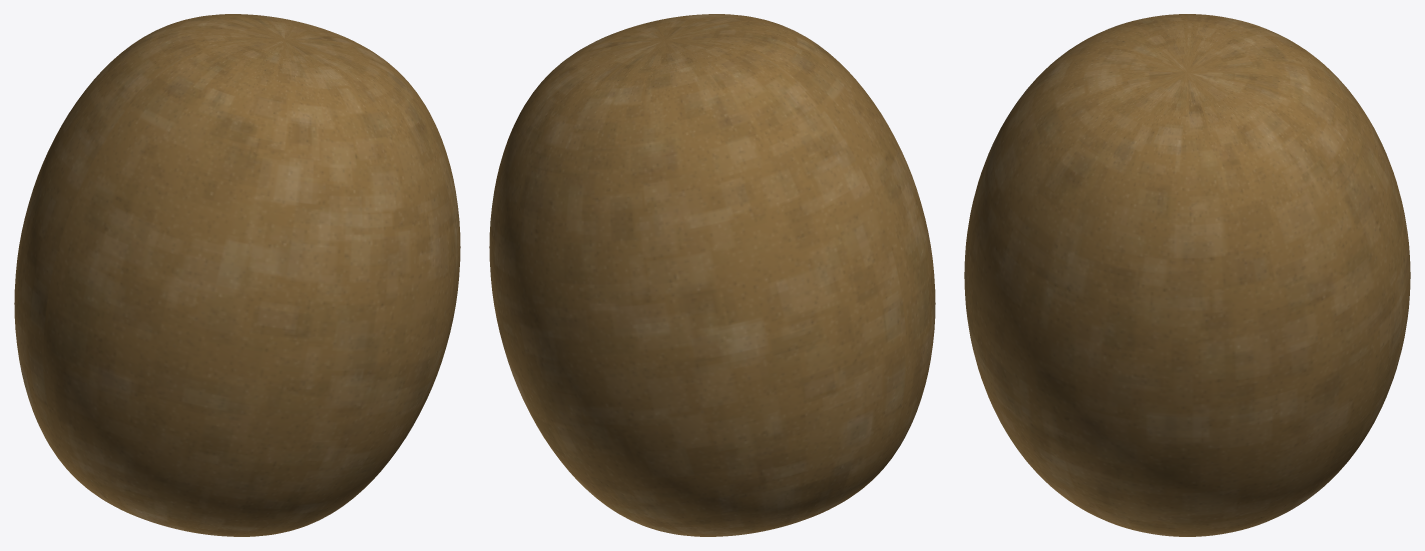
File: kiwi.glb
3 renders of one model, left to right at view 1: azimuth 30°, elevation 25°; view 2: azimuth 150°, elevation 25°; view 3: azimuth 270°, elevation 25°, orthographic.
Bounding box in the file's own units: 0.1292 × 0.1493 × 0.127.
1 material, 1 textured.
